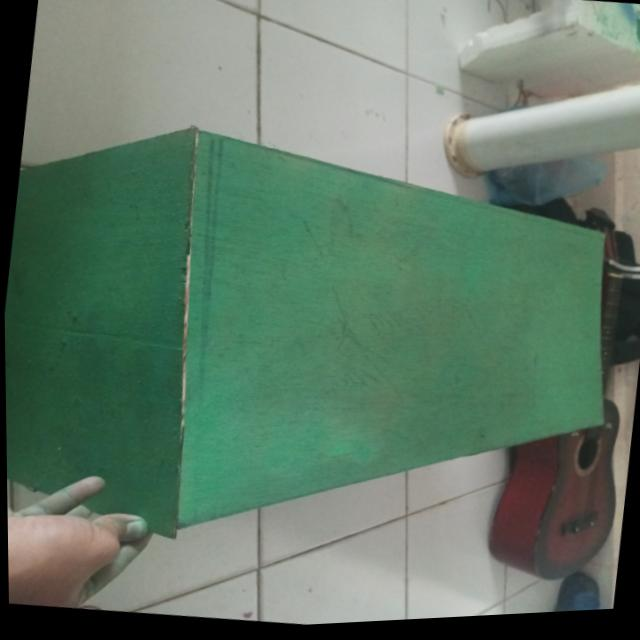green_box: (1, 59, 640, 603)
